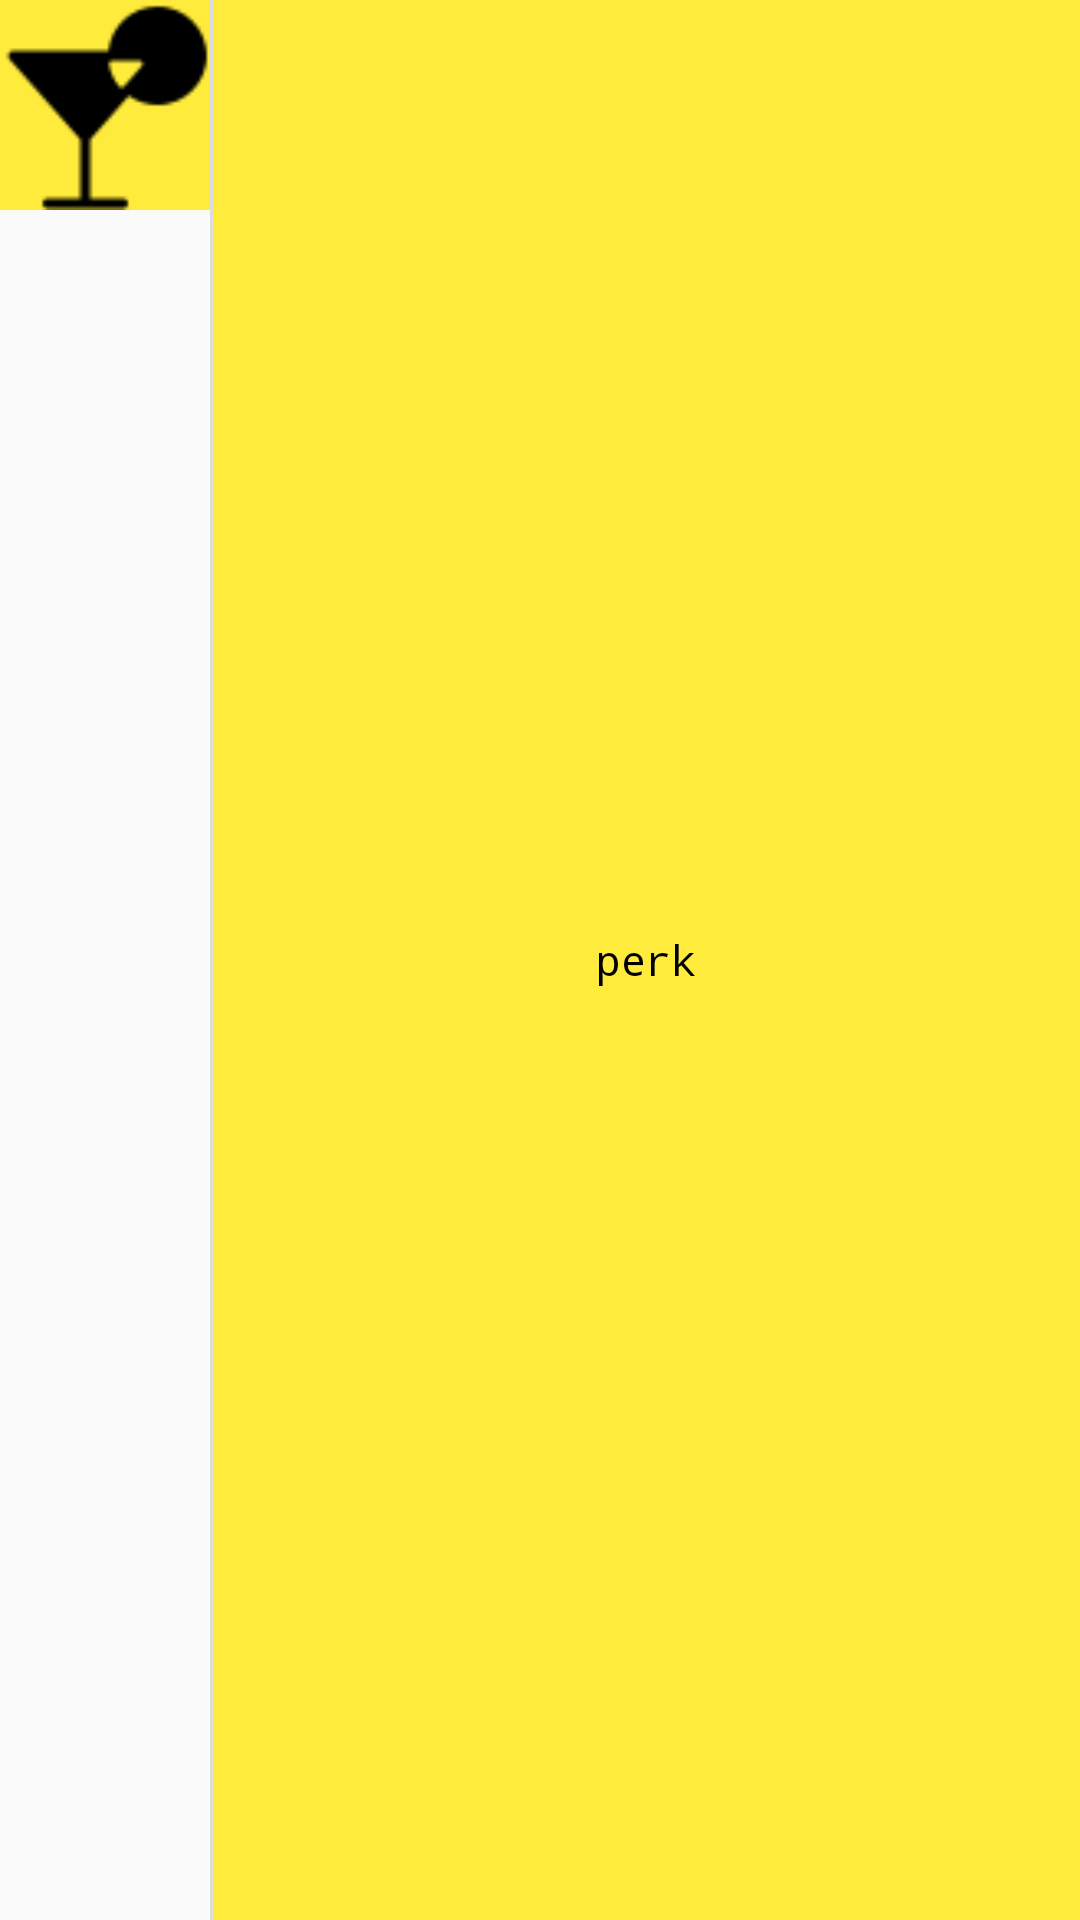

Named icons in this screenshot (1080px×1920px) and their bounding boxes, box(x1, y1, x2, y2):
cocktail: box(6, 5, 208, 210)
